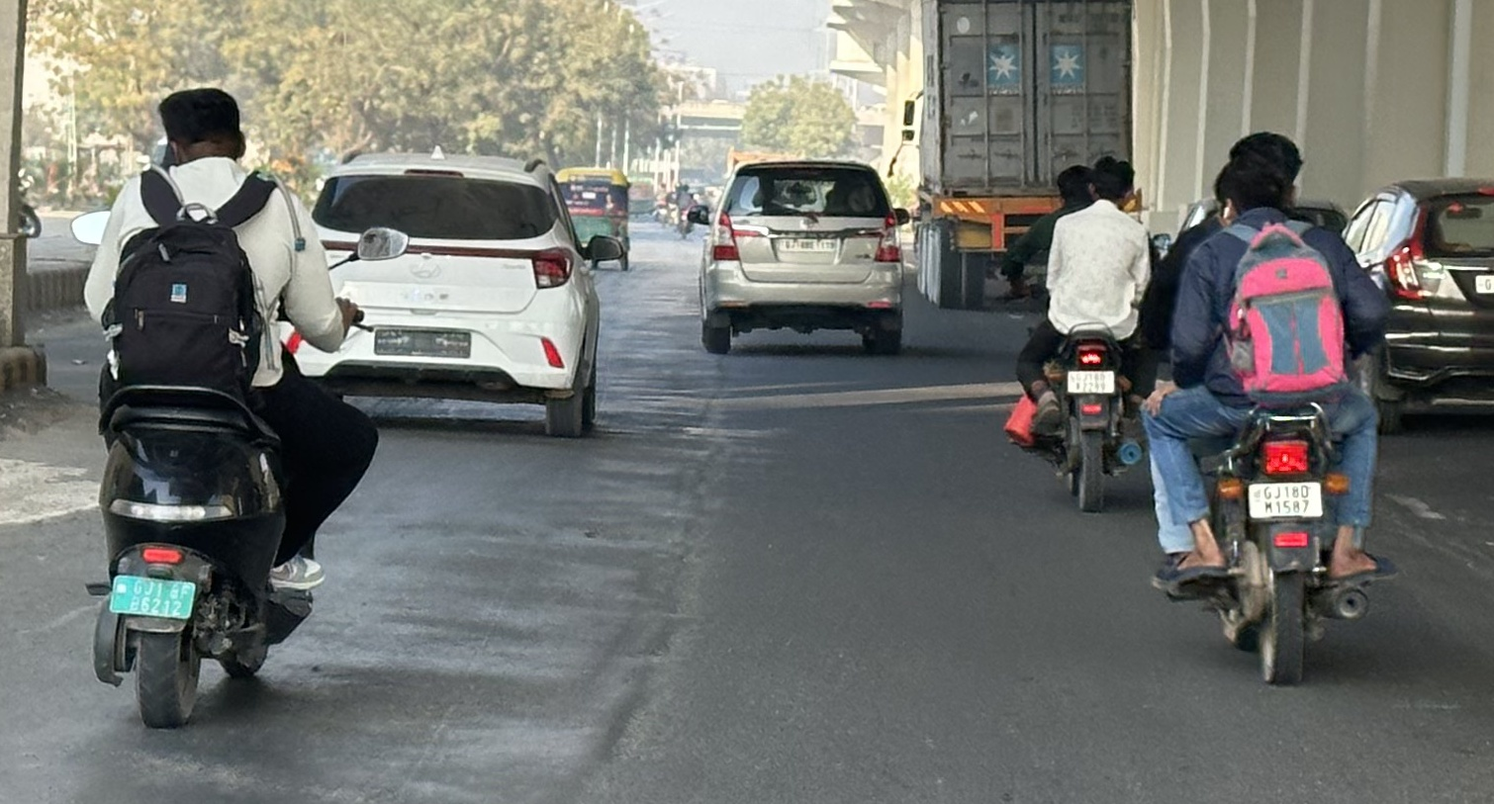BikeWithRider: (59, 81, 440, 735), (1121, 116, 1421, 711), (980, 125, 1174, 518)
NoHelmet: (155, 93, 264, 175), (1224, 125, 1324, 195), (1209, 157, 1289, 230), (1095, 154, 1154, 216), (1054, 166, 1089, 213)
